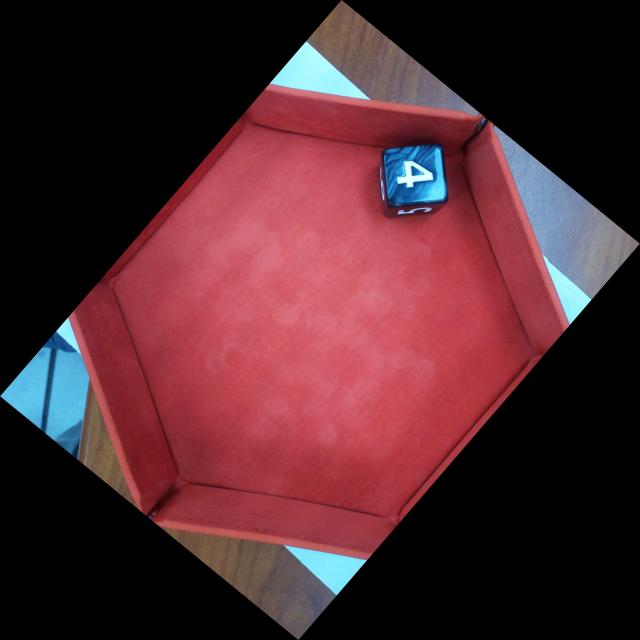dice: (385, 146, 446, 201)
